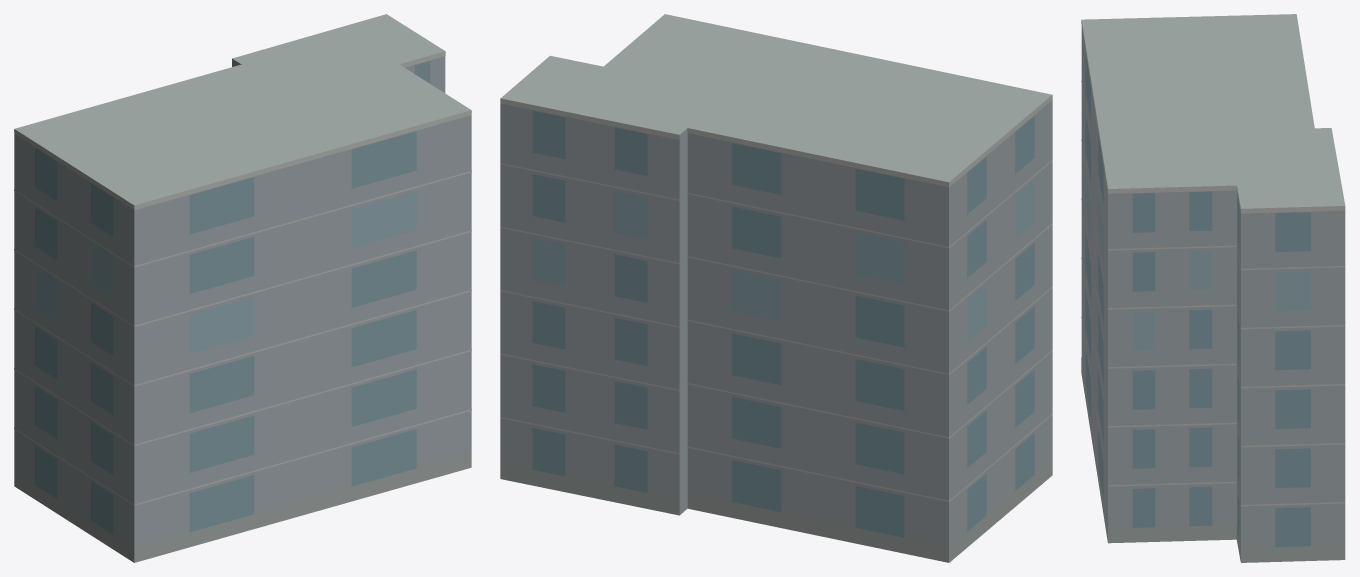
The model's file is survey-upis-32907789.glb.
3 renders of one model, left to right at view 1: azimuth 30°, elevation 25°; view 2: azimuth 150°, elevation 25°; view 3: azimuth 270°, elevation 25°, orthographic. The views are drawn at different scales.
Visible parts, largest first — view 1: survey-upis-32907789.tmp; view 2: survey-upis-32907789.tmp; view 3: survey-upis-32907789.tmp.
Boxes of the visible parts, bbox=[...] form: survey-upis-32907789.tmp: bbox=[14, 14, 471, 562]; survey-upis-32907789.tmp: bbox=[500, 14, 1052, 562]; survey-upis-32907789.tmp: bbox=[1081, 14, 1345, 562].
Size of the model in its own units: 21.15 by 17.9 by 12.11.
